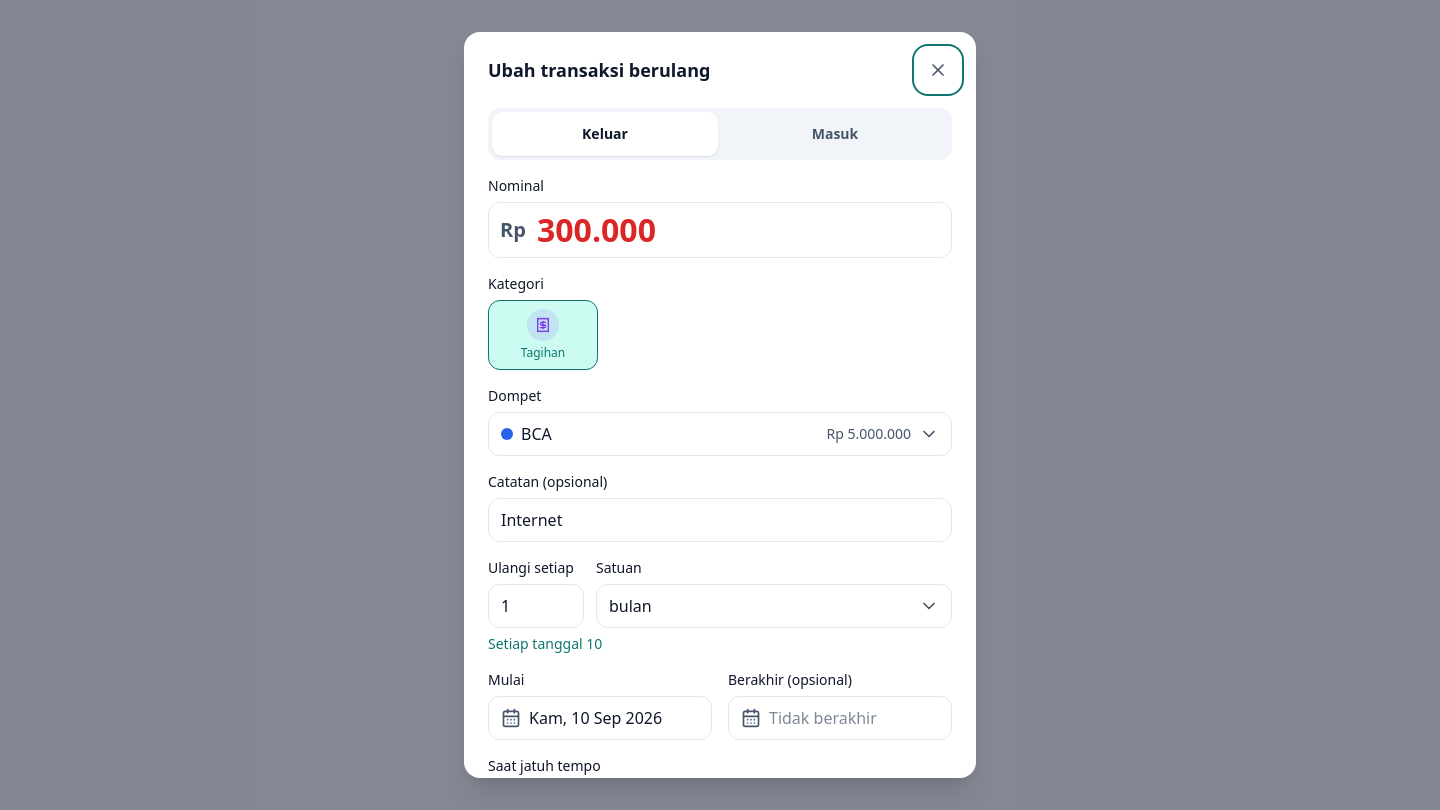
Test: RecurringSheet › menolak interval di luar 1–99 tanpa memanggil API
Replace the text in the number field labelled "Ulangi setiap" with "120" at (536, 606), box top-left (488, 584), bottom-right (584, 628)
(page scrolled)
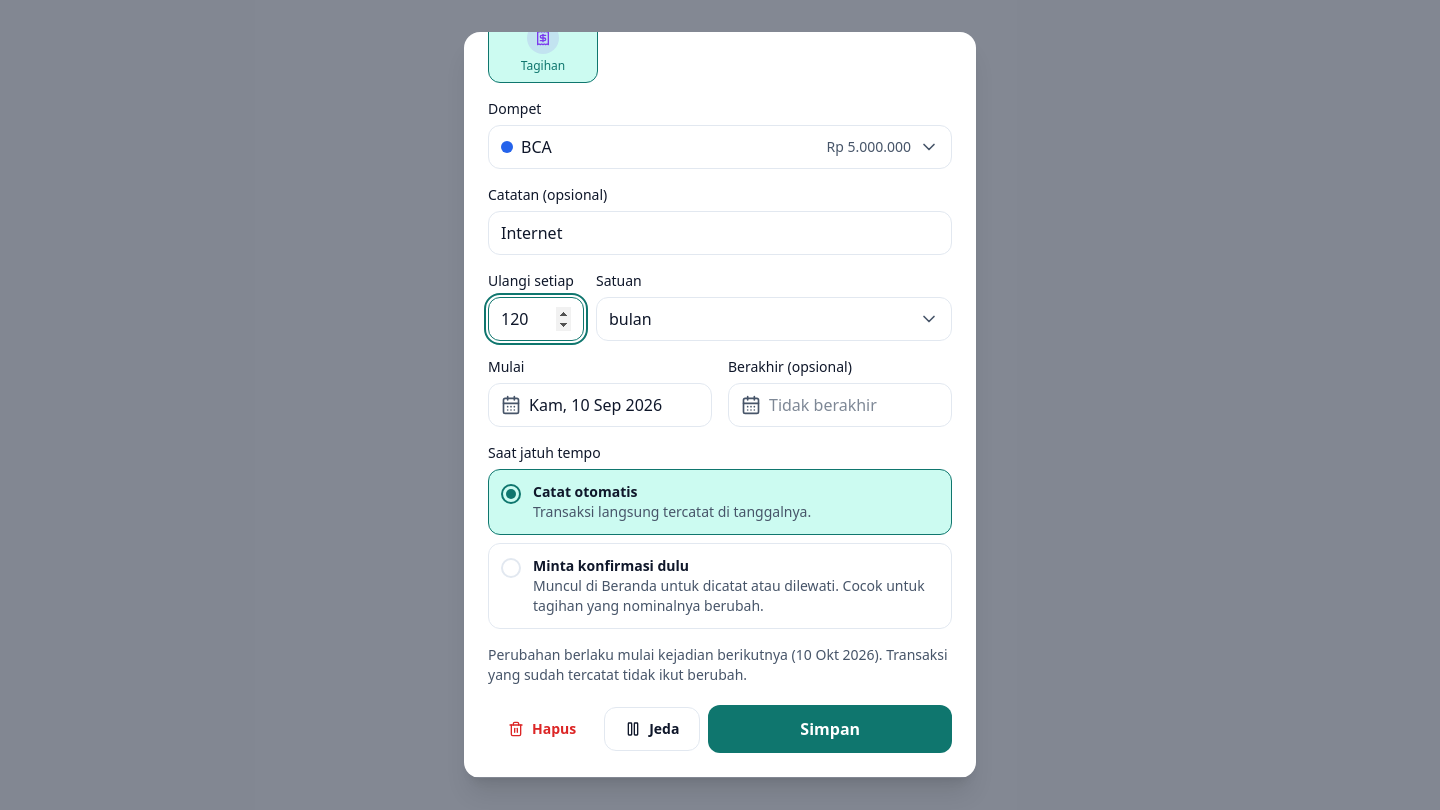
Click the button "Simpan" at (830, 729), box top-left (708, 705), bottom-right (952, 753)
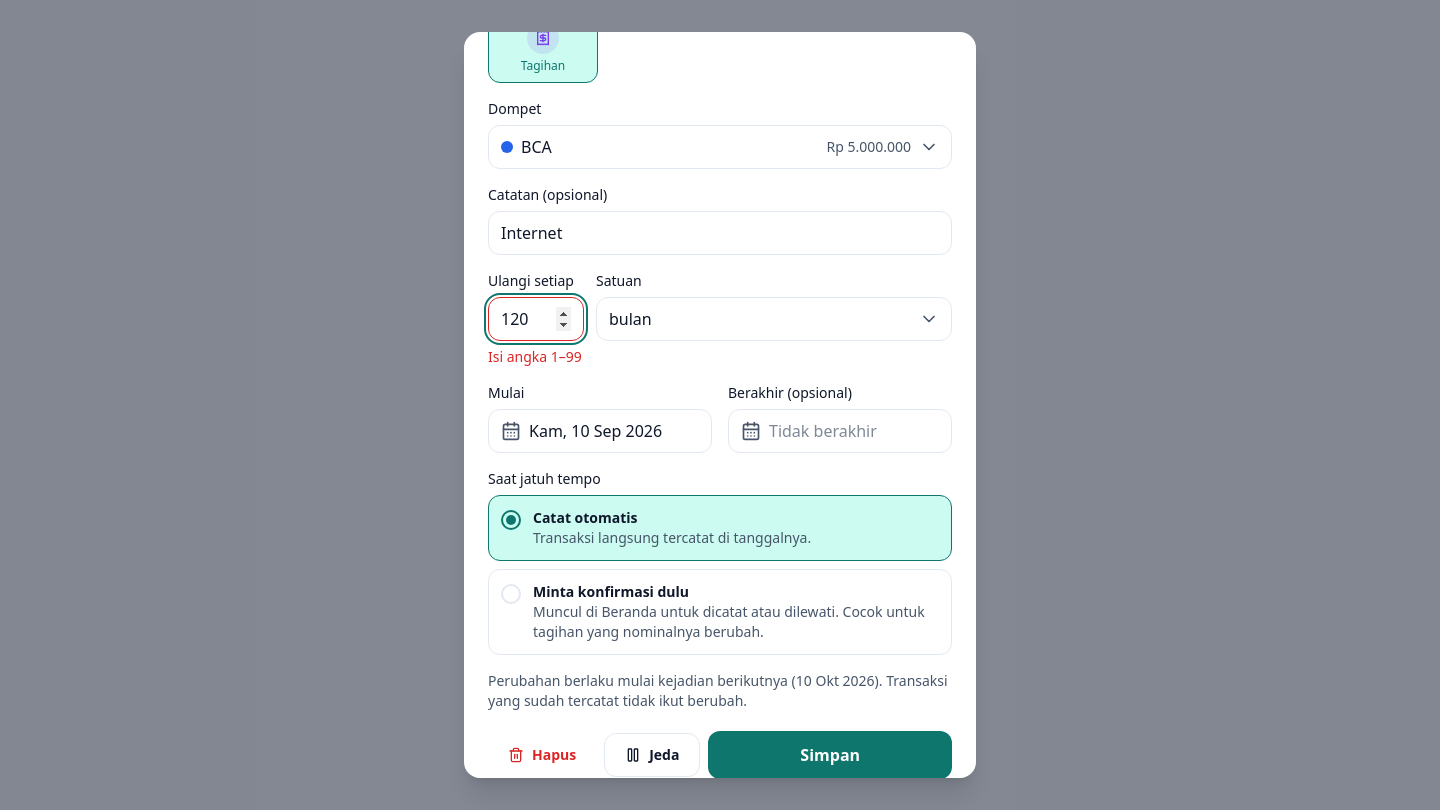
Result: the text "Isi angka 1–99" is shown at top-left (488, 347), bottom-right (584, 367)
